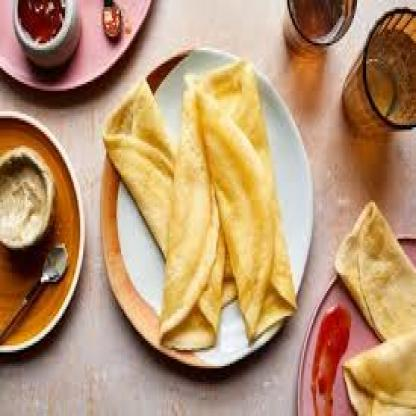dosa: (103, 76, 237, 310), (195, 60, 297, 346), (159, 70, 225, 349), (334, 200, 416, 343), (340, 329, 414, 416)
